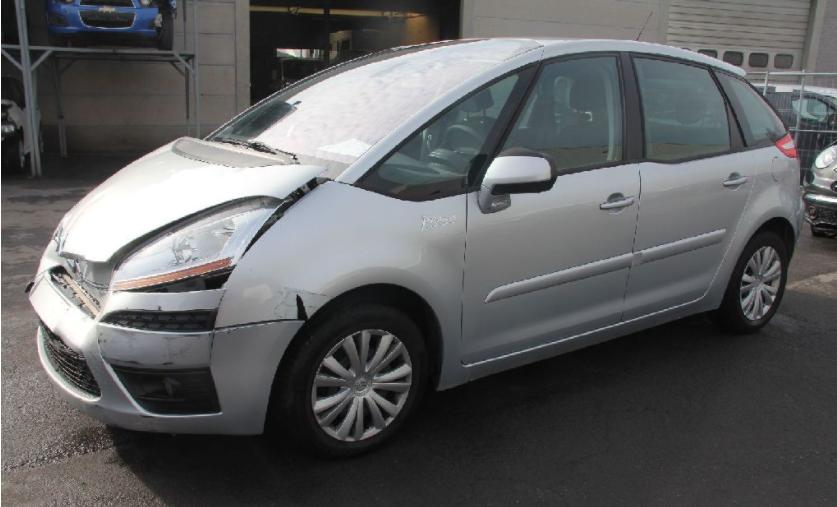Back-bumper: (791, 202, 806, 246)
Back-door: (621, 52, 755, 320)
Back-wheel: (724, 233, 786, 331)
Back-window: (635, 57, 732, 159), (719, 73, 786, 146)
Fender: (217, 180, 467, 370)
Front-bumper: (30, 240, 302, 439)
Front-door: (461, 51, 640, 362)
Front-wheel: (283, 303, 429, 454)
Front-window: (371, 70, 532, 191), (504, 54, 622, 172)
Headlight: (105, 199, 282, 291)
Hood: (54, 135, 329, 262)
Mirror: (479, 154, 557, 214)
Quarter-panel: (704, 147, 802, 298)
Rocker-panel: (439, 296, 723, 391)
Roof: (522, 37, 631, 45)
Tail-light: (775, 133, 798, 159)
Windshield: (211, 39, 541, 177)
